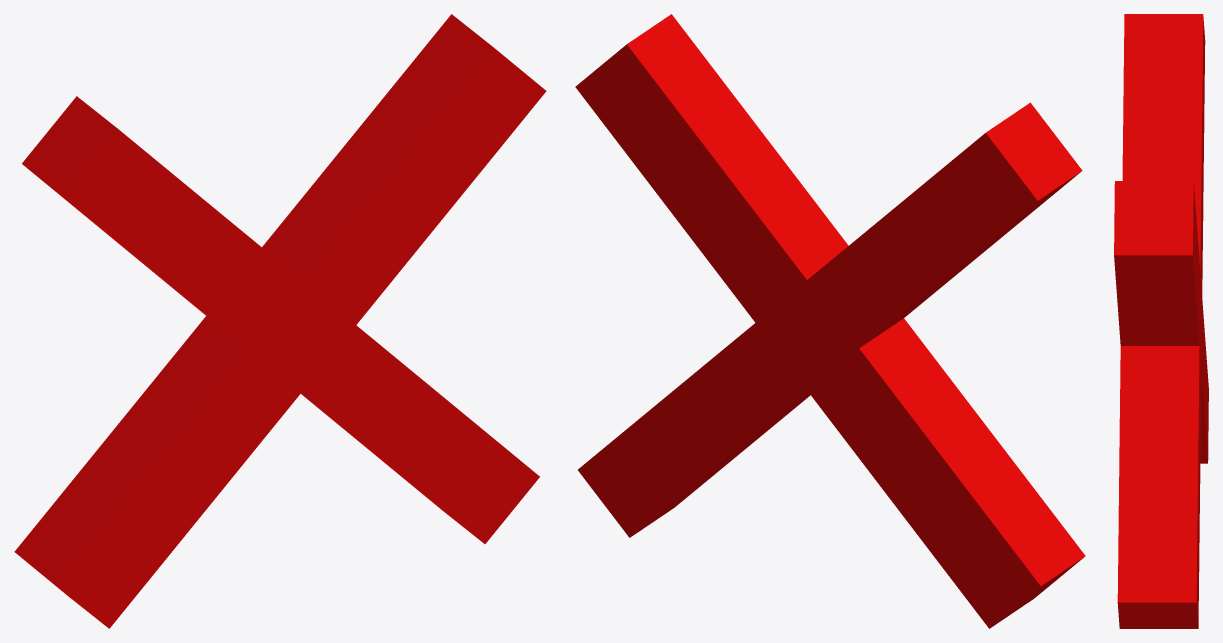
File: RedX.fbx
3 views of the same model, side by side, from view 1: azimuth 30°, elevation 25°; view 2: azimuth 150°, elevation 25°; view 3: azimuth 270°, elevation 25° (orthographic). The views are drawn at different scales.
Visible parts, largest first — view 1: pCube1; view 2: pCube1; view 3: pCube1.
Part boxes in pixels (x1,y1,x2,y2): pCube1: (14, 14, 546, 628); pCube1: (575, 14, 1085, 628); pCube1: (1114, 14, 1208, 628).
Bounding box in the file's own units: 6.4 × 6.36 × 1.2.
